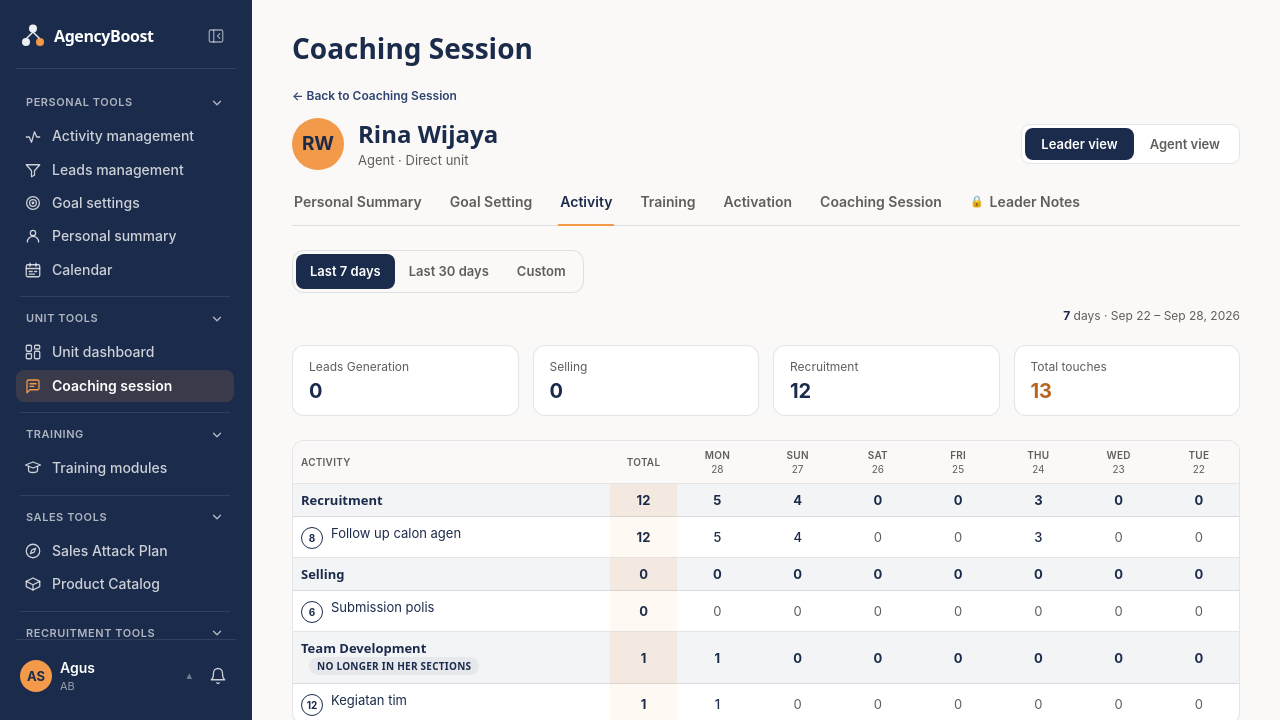
Test: a coachee’s Activity tab (P13.1-T9) › P13.1-T9 AC-3 moves to the last 30 days for her, and keeps naming her
Expected: the text "Follow up calon agen" is shown, [331,525,461,542]
Click the tab "Last 30 days" at (449, 272), box [395,254,503,289]
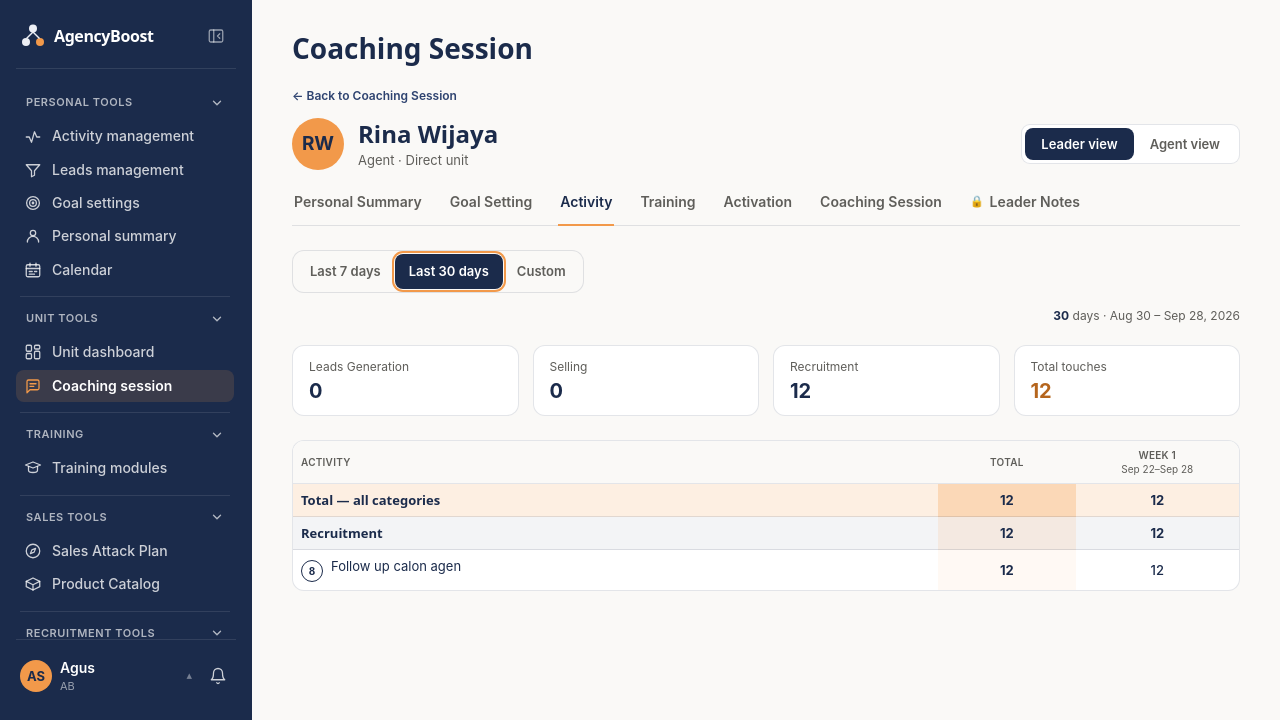
Expected: the column heading "Week 1 Sep 22–Sep 28" is shown, [1076,441,1239,483]
